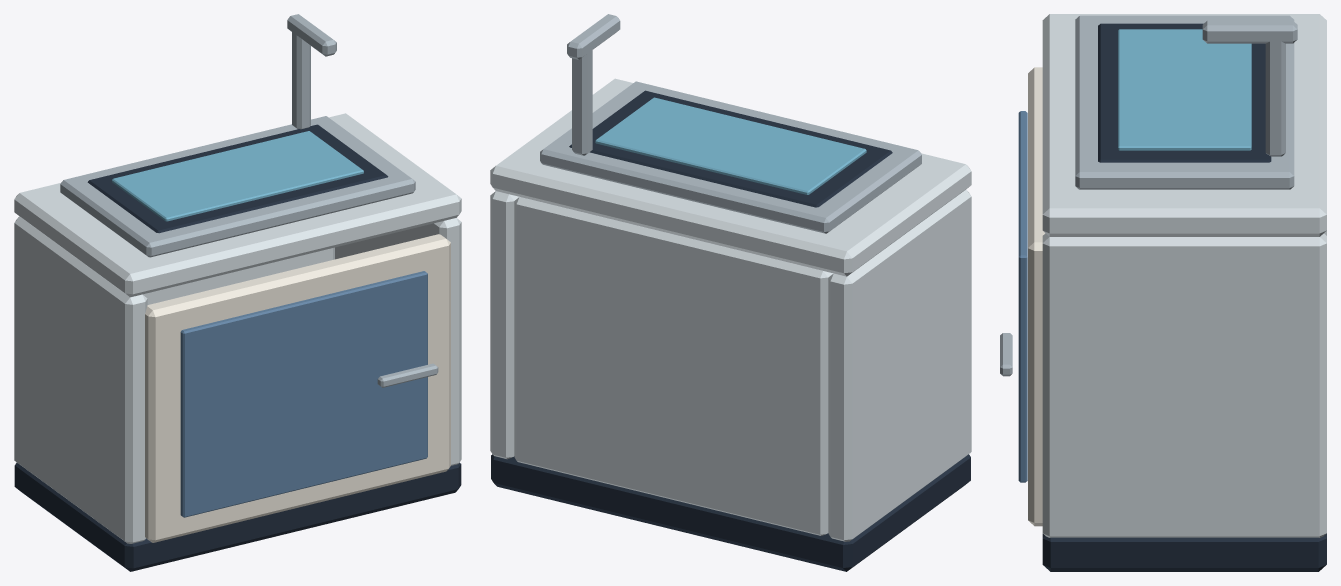
Rendered from restaurant_09.glb.
3 views of the same model, side by side, from view 1: azimuth 30°, elevation 25°; view 2: azimuth 150°, elevation 25°; view 3: azimuth 270°, elevation 25° (orthographic). The views are drawn at different scales.
Visible parts, largest first — view 1: InsetPanel, Side (×2), DoorPanel, Top, BasinWater, SinkRim, Base, SinkInside, Back, TapPost, TapNeck, Handle; view 2: Back, Side (×2), Top, Base, BasinWater, SinkRim, SinkInside, TapPost, TapNeck; view 3: Side, Top, BasinWater, SinkRim, Base, SinkInside, DoorPanel, InsetPanel, TapPost, TapNeck, Handle.
Boxes of the visible parts, bbox=[...] form: InsetPanel: bbox=[180, 271, 427, 517]; Side (×2): bbox=[14, 216, 461, 543]; DoorPanel: bbox=[145, 234, 450, 542]; Top: bbox=[14, 113, 461, 297]; BasinWater: bbox=[112, 131, 363, 221]; SinkRim: bbox=[60, 116, 415, 257]; Base: bbox=[14, 462, 461, 571]; SinkInside: bbox=[87, 124, 388, 233]; Back: bbox=[143, 247, 334, 304]; TapPost: bbox=[292, 31, 310, 129]; TapNeck: bbox=[287, 14, 336, 56]; Handle: bbox=[377, 363, 438, 387]; Back: bbox=[514, 197, 833, 535]; Side (×2): bbox=[490, 190, 971, 541]; Top: bbox=[490, 78, 971, 276]; Base: bbox=[491, 454, 970, 571]; BasinWater: bbox=[595, 97, 866, 194]; SinkRim: bbox=[540, 81, 921, 233]; SinkInside: bbox=[569, 90, 892, 207]; TapPost: bbox=[572, 49, 592, 155]; TapNeck: bbox=[567, 14, 620, 59]; Side: bbox=[1042, 233, 1326, 537]; Top: bbox=[1042, 14, 1326, 236]; BasinWater: bbox=[1118, 29, 1251, 150]; SinkRim: bbox=[1075, 15, 1294, 189]; Base: bbox=[1042, 533, 1326, 571]; SinkInside: bbox=[1098, 23, 1271, 162]; DoorPanel: bbox=[1028, 67, 1045, 526]; InsetPanel: bbox=[1018, 111, 1027, 482]; TapPost: bbox=[1265, 40, 1285, 156]; TapNeck: bbox=[1202, 20, 1297, 43]; Handle: bbox=[1000, 333, 1012, 376].
Bounding box in the file's own units: 1.05 × 1.25 × 0.724.
